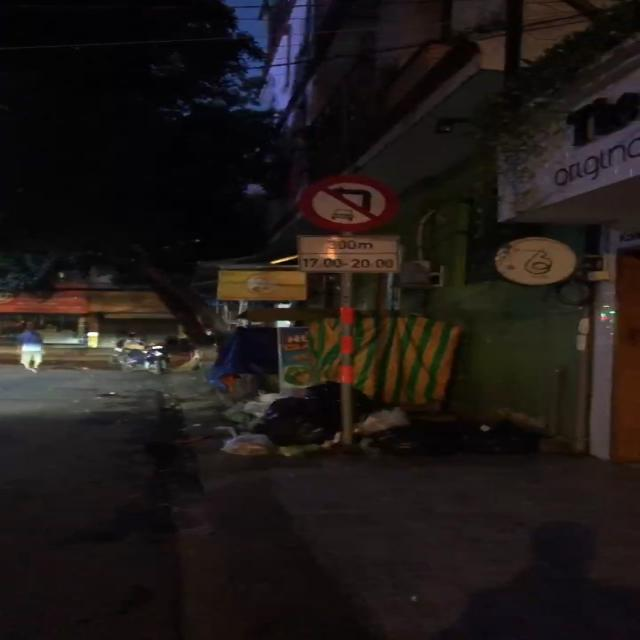Bien bao cam xe o to re trai: (289, 174, 400, 234)
